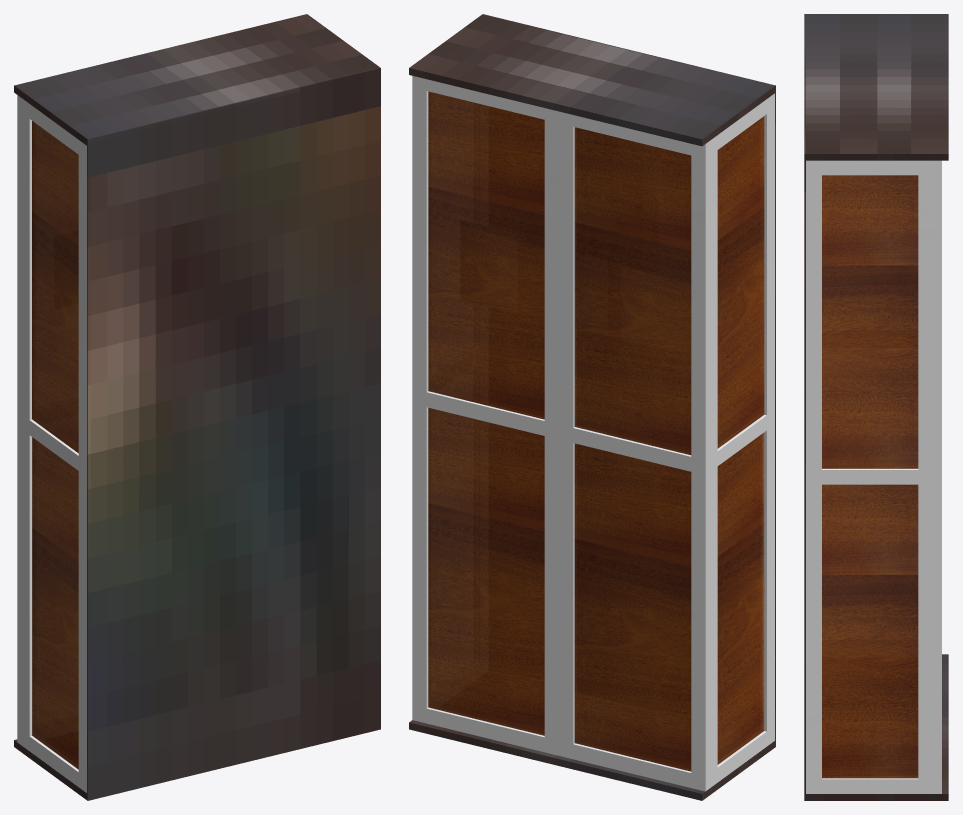
The picture shows the model from 3 angles, left to right: view 1: azimuth 30°, elevation 25°; view 2: azimuth 150°, elevation 25°; view 3: azimuth 270°, elevation 25°; orthographic projection. The views are drawn at different scales.
Visible parts, largest first — view 1: mesh42_mesh42-geometry, mesh33_mesh33-geometry, mesh44_mesh44-geometry, mesh46_mesh46-geometry, mesh7_mesh7-geometry, mesh38_mesh38-geometry, mesh40_mesh40-geometry, mesh36_mesh36-geometry, mesh34_mesh34-geometry; view 2: mesh1_mesh1-geometry, mesh7_mesh7-geometry, mesh33_mesh33-geometry, mesh46_mesh46-geometry, mesh44_mesh44-geometry, mesh38_mesh38-geometry, mesh3_mesh3-geometry, mesh9_mesh9-geometry, mesh29_mesh29-geometry, mesh11_mesh11-geometry, mesh42_mesh42-geometry, mesh40_mesh40-geometry (+2 smaller); view 3: mesh33_mesh33-geometry, mesh7_mesh7-geometry, mesh44_mesh44-geometry, mesh46_mesh46-geometry, mesh38_mesh38-geometry, mesh34_mesh34-geometry, mesh31_mesh31-geometry, mesh36_mesh36-geometry, mesh42_mesh42-geometry, mesh29_mesh29-geometry, mesh27_mesh27-geometry.
Boxes of the visible parts, <box> form: mesh42_mesh42-geometry: <box>87,67,380,800</box>; mesh33_mesh33-geometry: <box>32,121,78,769</box>; mesh44_mesh44-geometry: <box>50,40,379,145</box>; mesh46_mesh46-geometry: <box>14,14,342,118</box>; mesh7_mesh7-geometry: <box>17,95,32,744</box>; mesh38_mesh38-geometry: <box>78,146,86,792</box>; mesh40_mesh40-geometry: <box>21,736,86,792</box>; mesh36_mesh36-geometry: <box>27,419,80,471</box>; mesh34_mesh34-geometry: <box>21,98,86,154</box>; mesh1_mesh1-geometry: <box>428,91,691,771</box>; mesh7_mesh7-geometry: <box>412,76,717,791</box>; mesh33_mesh33-geometry: <box>717,116,764,764</box>; mesh46_mesh46-geometry: <box>409,41,738,146</box>; mesh44_mesh44-geometry: <box>446,14,774,119</box>; mesh38_mesh38-geometry: <box>763,94,774,739</box>; mesh3_mesh3-geometry: <box>413,707,704,791</box>; mesh9_mesh9-geometry: <box>423,391,694,472</box>; mesh29_mesh29-geometry: <box>409,720,738,800</box>; mesh11_mesh11-geometry: <box>416,76,702,155</box>; mesh42_mesh42-geometry: <box>482,14,775,747</box>; mesh40_mesh40-geometry: <box>709,731,774,788</box>; mesh33_mesh33-geometry: <box>822,175,918,778</box>; mesh7_mesh7-geometry: <box>918,160,941,793</box>; mesh44_mesh44-geometry: <box>806,14,877,160</box>; mesh46_mesh46-geometry: <box>877,14,948,160</box>; mesh38_mesh38-geometry: <box>806,161,821,793</box>; mesh34_mesh34-geometry: <box>806,160,933,175</box>; mesh31_mesh31-geometry: <box>806,778,933,793</box>; mesh36_mesh36-geometry: <box>818,468,921,484</box>; mesh42_mesh42-geometry: <box>804,14,805,800</box>; mesh29_mesh29-geometry: <box>877,654,948,800</box>; mesh27_mesh27-geometry: <box>806,794,877,800</box>.
Bounding box in the file's own units: 0.4138 × 0.8924 × 0.1802.
